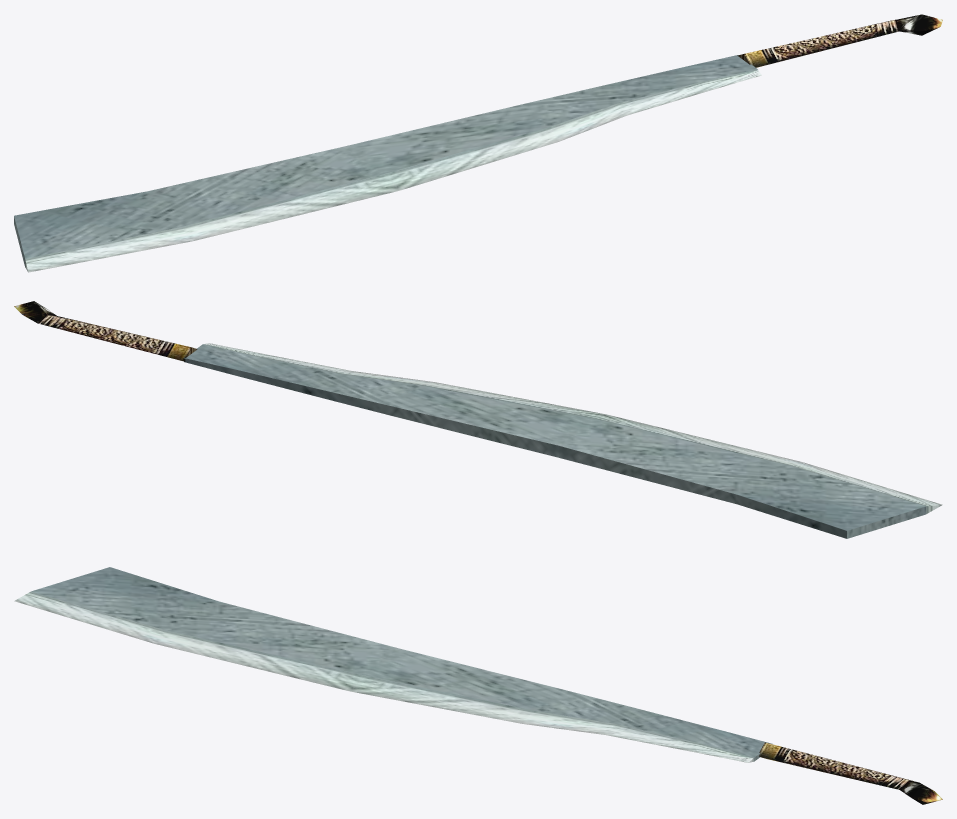
The model's file is ITMW_2H_MACHETE_02.glb.
3 renders of one model, top to bottom at view 1: azimuth 30°, elevation 25°; view 2: azimuth 150°, elevation 25°; view 3: azimuth 330°, elevation 25°, orthographic. The views are drawn at different scales.
Parts seen in each view (by area): view 1: ITMW_2H_MACHETE_02; view 2: ITMW_2H_MACHETE_02; view 3: ITMW_2H_MACHETE_02.
Part boxes in pixels (x1,y1,x2,y2): ITMW_2H_MACHETE_02: [14, 14, 942, 272]; ITMW_2H_MACHETE_02: [14, 301, 942, 538]; ITMW_2H_MACHETE_02: [14, 567, 942, 804].
Bounding box in the file's own units: 1.38 × 0.0297 × 0.168.
3 materials, 3 textured.
